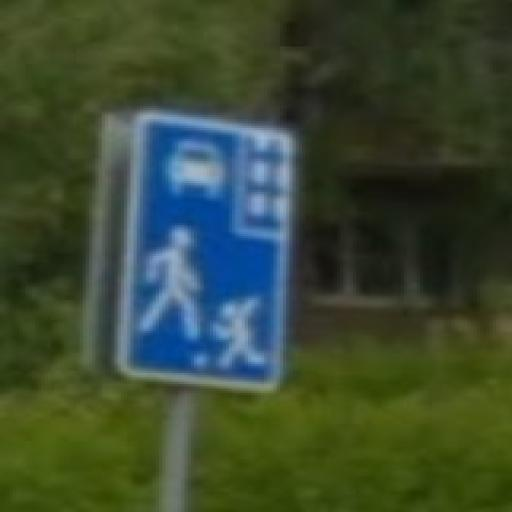traffic_sign: (116, 111, 303, 394)
